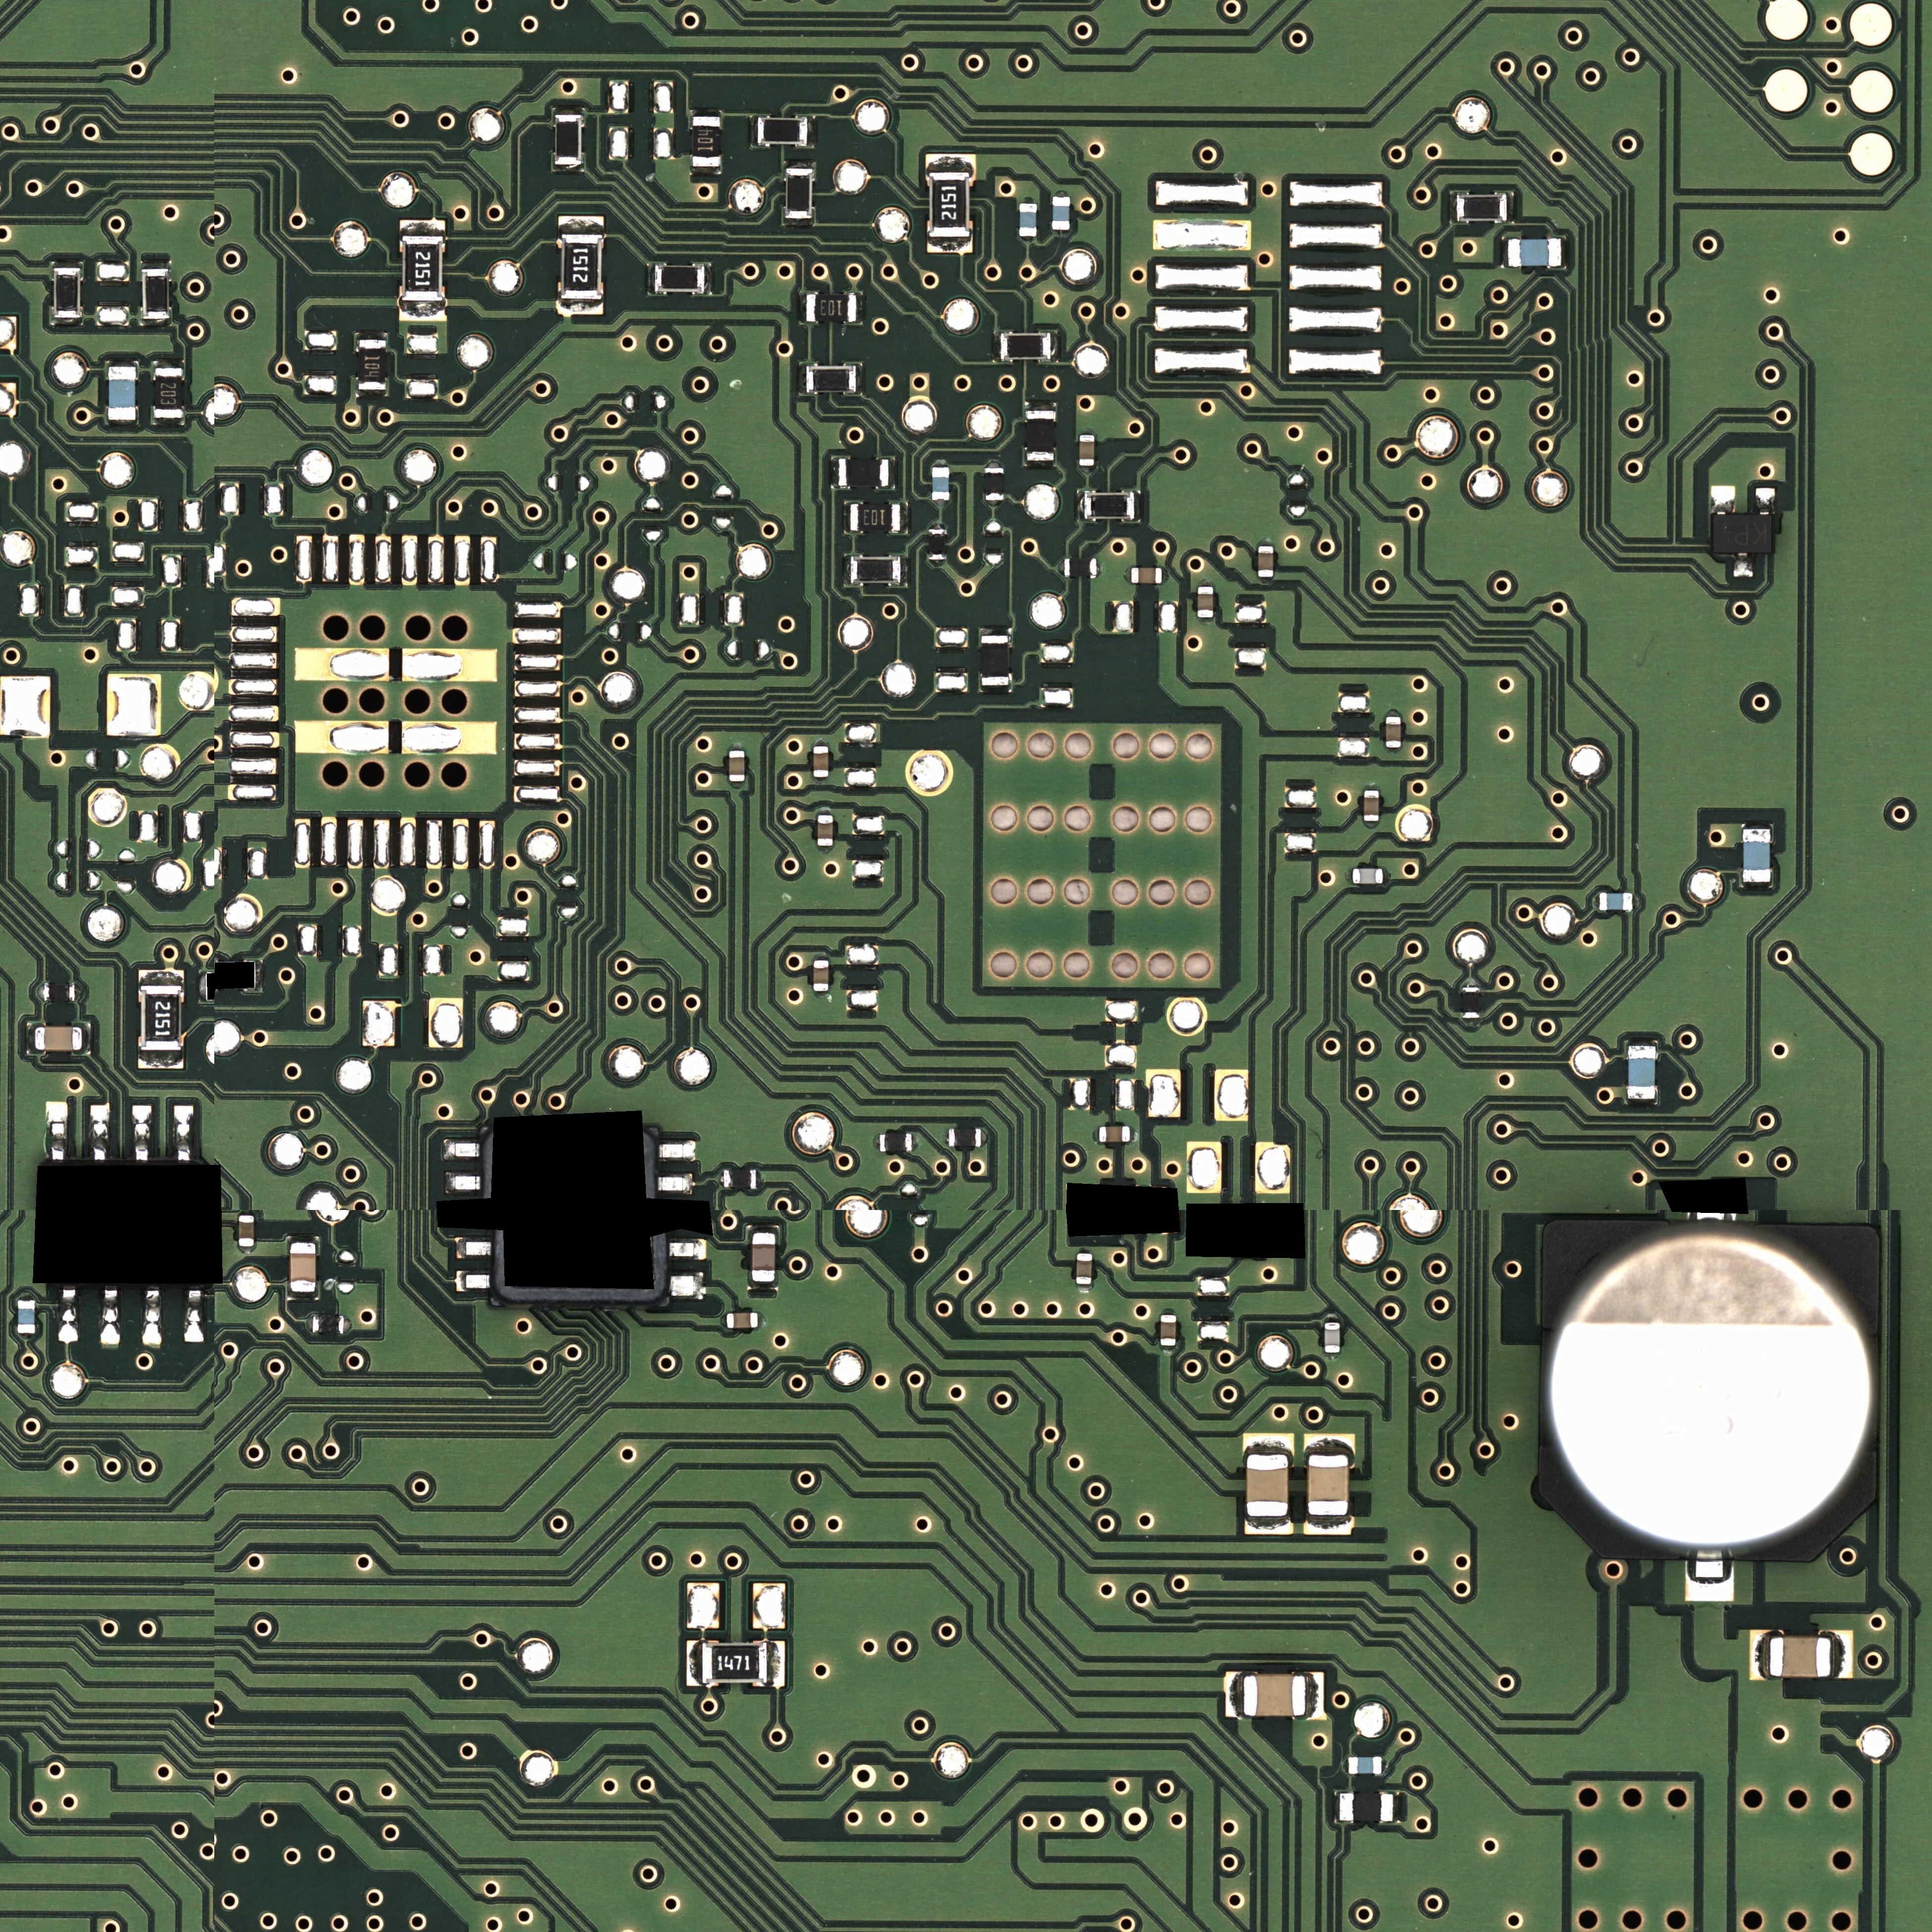Package: (1544, 1220, 1877, 1559), (141, 986, 182, 1050), (402, 236, 442, 301), (929, 172, 969, 237), (1243, 1675, 1306, 1716), (702, 1643, 767, 1683), (1247, 1454, 1288, 1517), (561, 235, 601, 299), (1769, 1637, 1831, 1677), (1308, 1455, 1348, 1515), (1712, 515, 1772, 553), (1339, 1793, 1393, 1822), (1507, 239, 1561, 266), (1628, 1046, 1656, 1099), (108, 367, 136, 420), (1743, 829, 1770, 882), (838, 459, 889, 486), (692, 116, 720, 167), (154, 368, 183, 418), (1027, 411, 1055, 460), (981, 636, 1009, 685), (850, 504, 901, 531), (806, 295, 857, 322), (358, 340, 386, 389), (655, 266, 705, 292), (1457, 195, 1507, 221), (1084, 493, 1134, 519), (1001, 334, 1050, 359), (290, 1243, 316, 1292), (758, 119, 807, 144), (555, 115, 580, 164), (786, 169, 812, 218), (144, 269, 169, 319), (807, 367, 856, 392), (851, 558, 901, 583), (54, 268, 80, 317), (752, 1233, 775, 1281), (35, 1026, 82, 1051), (723, 1169, 756, 1189), (985, 468, 1004, 501), (1064, 558, 1097, 577), (1599, 893, 1633, 911), (1348, 1756, 1382, 1774), (879, 1133, 912, 1152), (18, 1300, 36, 1333), (1053, 196, 1070, 230), (948, 1129, 981, 1147), (932, 467, 949, 500), (1462, 987, 1480, 1018), (43, 984, 75, 1001), (313, 1316, 344, 1334), (1019, 203, 1036, 236), (928, 529, 946, 560), (239, 1215, 255, 1246), (813, 960, 829, 991), (813, 746, 829, 777), (818, 815, 833, 846), (729, 750, 745, 781), (726, 1312, 758, 1328), (1258, 546, 1274, 578), (1160, 1315, 1176, 1346), (1131, 568, 1162, 583), (1198, 587, 1213, 618), (1385, 717, 1401, 748), (1099, 1126, 1130, 1142), (1324, 1322, 1340, 1353), (1364, 790, 1379, 821), (1079, 435, 1095, 466), (1352, 868, 1383, 884), (1076, 1254, 1092, 1284)
Solder: (1687, 1561, 1735, 1603), (99, 1287, 120, 1345), (46, 1101, 66, 1160), (132, 1105, 152, 1160), (142, 1290, 161, 1345), (174, 1105, 193, 1160), (90, 1105, 109, 1159), (1243, 1433, 1294, 1454), (60, 1287, 80, 1342), (1304, 1434, 1355, 1454), (185, 1290, 204, 1342), (398, 301, 447, 322), (1833, 1631, 1852, 1679), (1304, 1516, 1352, 1535), (1750, 1630, 1768, 1681), (671, 1273, 705, 1300), (444, 1172, 482, 1195), (137, 1051, 185, 1069), (1245, 1517, 1293, 1535), (1307, 1672, 1325, 1720), (926, 154, 976, 171), (1225, 1671, 1243, 1718), (768, 1641, 785, 1687), (456, 1237, 492, 1258), (558, 216, 604, 234), (455, 1269, 489, 1292), (670, 1240, 707, 1260), (444, 1139, 481, 1159), (926, 238, 972, 253), (1710, 485, 1735, 515), (659, 1141, 695, 1160), (557, 300, 604, 315), (686, 1641, 702, 1686), (400, 220, 445, 235), (139, 970, 184, 985), (660, 1173, 692, 1194), (1756, 488, 1775, 515), (1734, 553, 1753, 578), (82, 1023, 91, 1054), (690, 166, 722, 175), (1740, 882, 1773, 891), (990, 332, 999, 362), (257, 960, 265, 992), (748, 1282, 777, 1291), (1051, 331, 1060, 361), (26, 1023, 35, 1054), (842, 554, 851, 585), (1025, 402, 1057, 410), (749, 115, 757, 146), (1076, 490, 1084, 521), (798, 363, 806, 395), (646, 263, 654, 294), (901, 555, 909, 586), (1507, 192, 1515, 223), (154, 359, 184, 368), (1626, 1038, 1657, 1046), (980, 628, 1011, 635), (889, 457, 896, 489), (141, 260, 171, 268), (52, 260, 82, 268), (357, 331, 387, 338), (808, 116, 816, 146), (1394, 1792, 1401, 1822), (287, 1293, 319, 1300), (198, 971, 205, 1004), (691, 108, 721, 116), (857, 292, 865, 324), (554, 106, 583, 114), (902, 502, 909, 534), (980, 686, 1012, 694), (107, 358, 138, 366), (831, 457, 838, 488), (705, 263, 712, 294), (857, 363, 864, 394), (799, 292, 806, 323), (1500, 237, 1508, 267), (288, 1235, 318, 1242), (784, 160, 815, 168), (748, 1225, 778, 1232), (141, 319, 171, 326), (357, 389, 386, 397), (784, 218, 814, 226), (1134, 491, 1142, 521), (152, 418, 184, 425), (1024, 461, 1056, 468), (1449, 191, 1456, 223), (1626, 1099, 1657, 1106), (554, 164, 583, 172), (1741, 821, 1772, 828), (52, 318, 82, 325), (1561, 237, 1567, 268), (1461, 1020, 1481, 1030), (107, 420, 139, 426), (1333, 1791, 1339, 1823), (844, 502, 850, 533), (17, 1290, 36, 1300), (16, 1334, 36, 1343), (1463, 978, 1480, 987), (817, 847, 833, 856), (757, 1170, 764, 1190), (1324, 1314, 1340, 1322), (981, 1128, 988, 1148), (75, 983, 82, 1002), (1632, 893, 1640, 912), (912, 1133, 919, 1152), (758, 1310, 765, 1329), (817, 807, 833, 815), (1076, 1284, 1092, 1292), (813, 991, 830, 999), (1078, 466, 1095, 473), (942, 1127, 948, 1147), (932, 500, 950, 507), (814, 952, 829, 960), (1160, 1346, 1176, 1353), (985, 461, 1004, 468), (928, 521, 946, 528), (873, 1134, 879, 1152), (1198, 579, 1213, 586), (1257, 538, 1273, 546), (345, 1317, 352, 1334), (932, 460, 949, 467), (1324, 1353, 1341, 1360), (729, 743, 745, 750), (1386, 748, 1402, 755), (985, 500, 1004, 506), (720, 1312, 726, 1329), (1197, 618, 1213, 624), (1131, 1126, 1137, 1143), (1364, 783, 1379, 790), (1161, 1308, 1176, 1315), (1077, 1247, 1092, 1254), (37, 984, 44, 1001), (1020, 197, 1036, 203), (1258, 577, 1273, 584), (1058, 559, 1064, 577), (1093, 1126, 1099, 1143), (1079, 429, 1095, 435), (1386, 710, 1401, 717), (306, 1316, 312, 1333), (1052, 231, 1070, 236), (728, 782, 745, 788), (1053, 191, 1069, 196), (1383, 868, 1389, 884), (1363, 821, 1379, 827), (929, 560, 946, 566), (239, 1247, 254, 1253), (239, 1209, 254, 1215), (1125, 567, 1131, 583), (1348, 868, 1353, 884), (814, 740, 828, 746), (1162, 567, 1167, 584), (1382, 1757, 1387, 1774), (1594, 894, 1599, 911), (1097, 559, 1102, 577), (1343, 1758, 1348, 1774), (813, 777, 828, 783), (718, 1171, 724, 1187), (1020, 237, 1036, 242)
